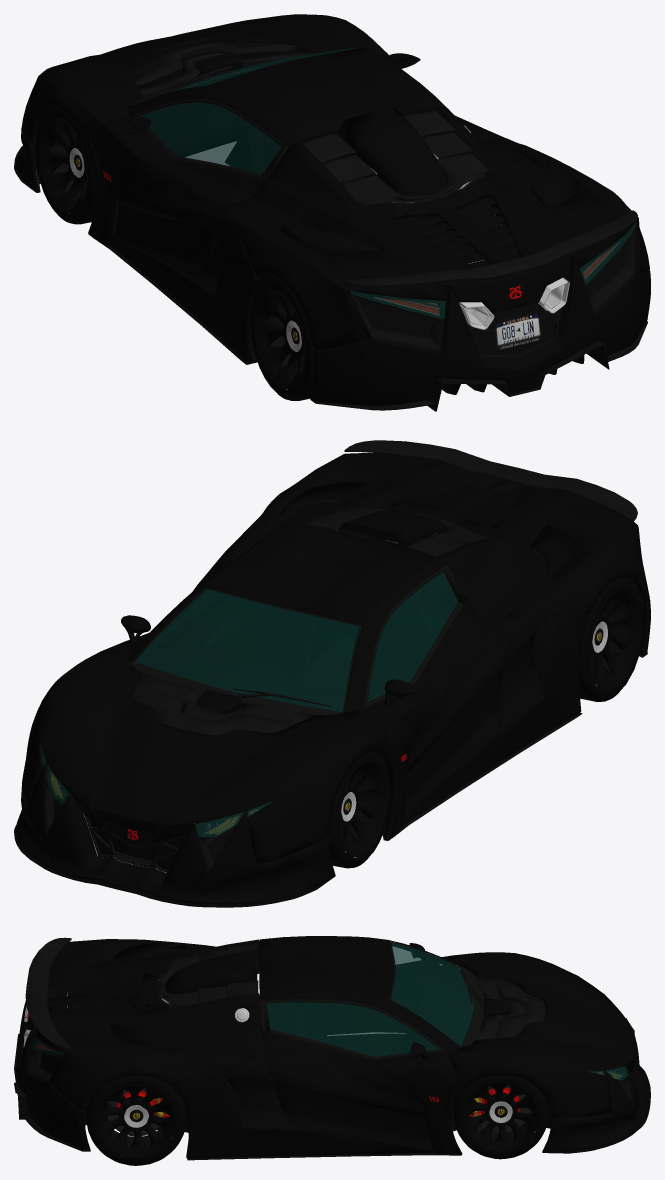
The model's file is v12-goblin.glb.
3 views of the same model, one above another, from view 1: azimuth 30°, elevation 25°; view 2: azimuth 150°, elevation 25°; view 3: azimuth 270°, elevation 25° (orthographic). The views are drawn at different scales.
Visible parts, largest first — view 1: car_body, car_glass, car_wheel_BL, car_wheel_FL; view 2: car_body, car_glass, car_wheel_BL, car_wheel_FL; view 3: car_body, car_glass, car_wheel_BR, car_wheel_FR.
Part boxes in pixels (left/top/right/bottom): car_body: left=14, top=14, right=650, bottom=411; car_glass: left=139, top=47, right=636, bottom=319; car_wheel_BL: left=250, top=276, right=313, bottom=400; car_wheel_FL: left=35, top=107, right=94, bottom=224; car_body: left=14, top=440, right=650, bottom=907; car_glass: left=40, top=572, right=457, bottom=837; car_wheel_BL: left=579, top=577, right=644, bottom=701; car_wheel_FL: left=329, top=751, right=390, bottom=868; car_body: left=14, top=936, right=650, bottom=1160; car_glass: left=31, top=942, right=628, bottom=1080; car_wheel_BR: left=86, top=1075, right=186, bottom=1165; car_wheel_FR: left=453, top=1075, right=548, bottom=1159.
Size of the model in its own units: 0.2291 by 0.1219 by 0.4787.
Materials: 3 (1 with a texture image).
